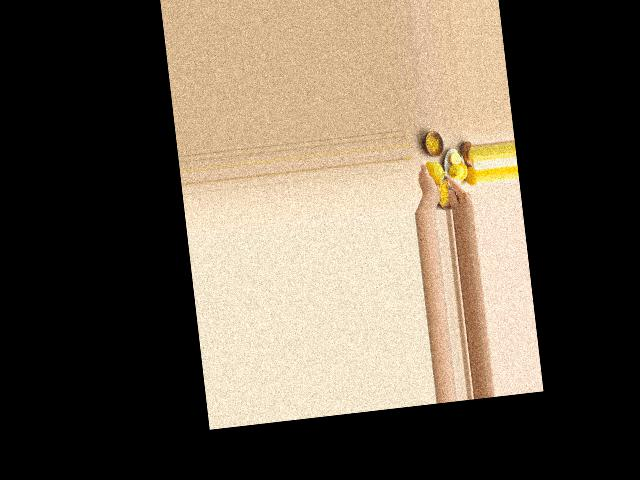lemon: (422, 160, 446, 187)
